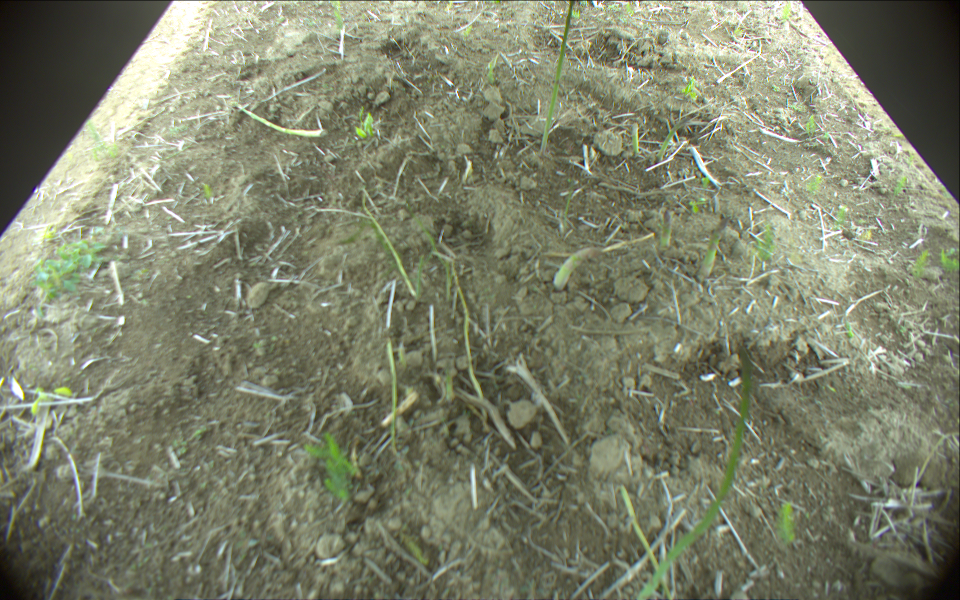aspa: (634, 346, 752, 600), (361, 191, 415, 298), (541, 1, 574, 156), (450, 255, 484, 405), (231, 98, 326, 137), (553, 245, 604, 291), (700, 216, 731, 276), (658, 111, 695, 160), (384, 338, 397, 448), (662, 209, 671, 249), (631, 124, 640, 156)
